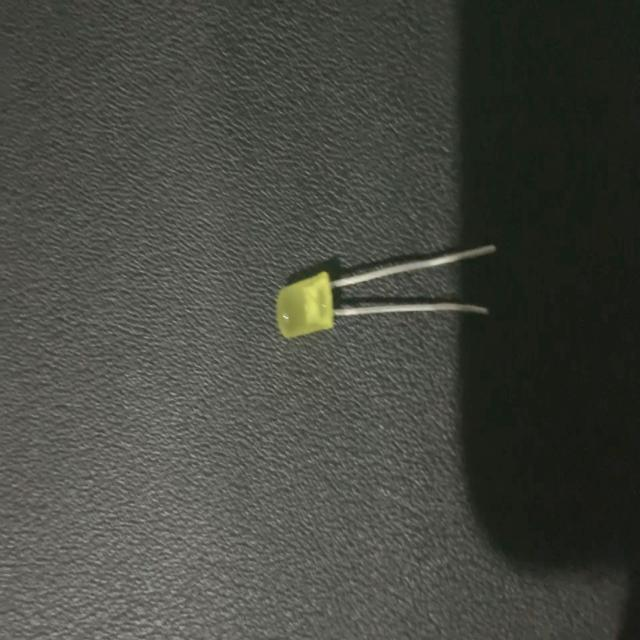LED: (270, 245, 498, 338)
